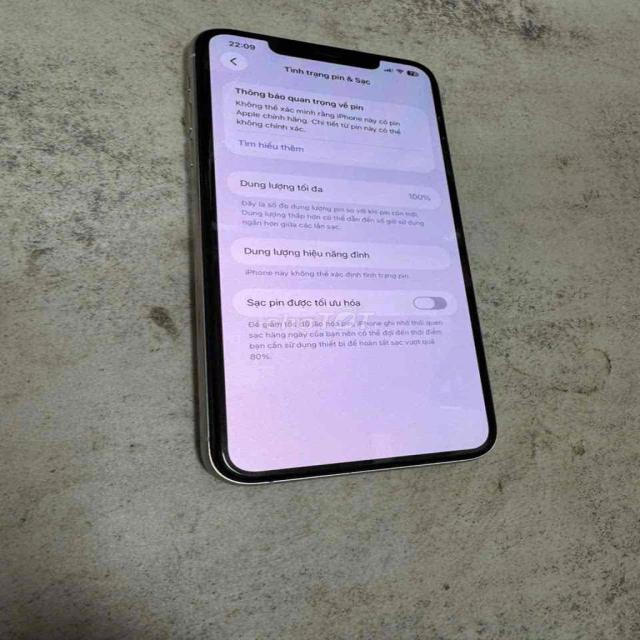gen_11: (189, 29, 495, 484)
